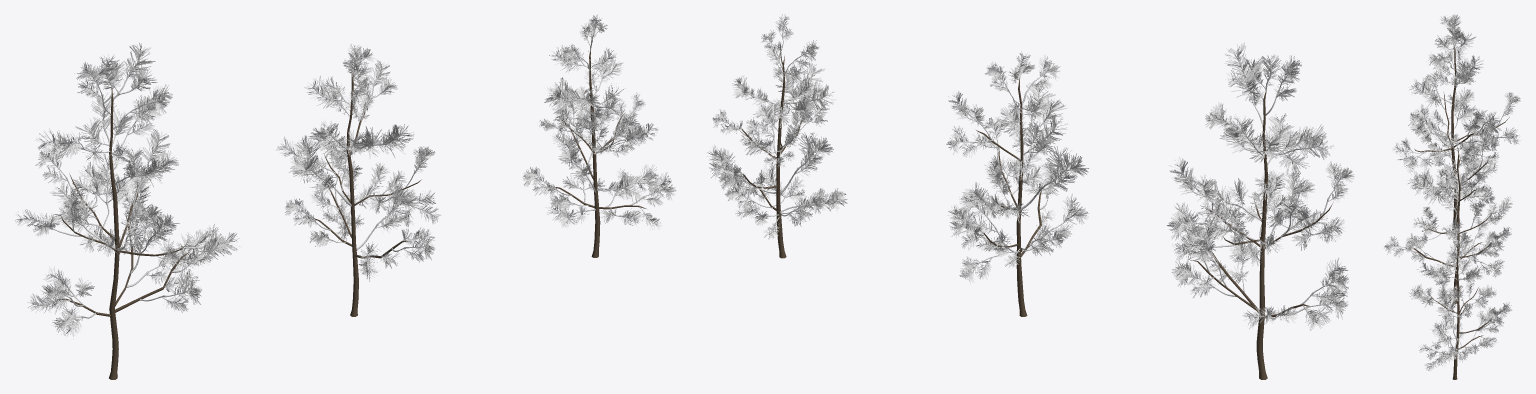
Rendered from pine_sapling_small_1k.fbx.
3 renders of one model, left to right at view 1: azimuth 30°, elevation 25°; view 2: azimuth 150°, elevation 25°; view 3: azimuth 270°, elevation 25°, orthographic. The views are drawn at different scales.
Parts seen in each view (by area): view 1: pine_sapling_small_a, pine_sapling_small_b, pine_sapling_small_c; view 2: pine_sapling_small_a, pine_sapling_small_b, pine_sapling_small_c; view 3: pine_sapling_small_a, pine_sapling_small_b, pine_sapling_small_c.
Boxes of the visible parts, box(x1,y1,x2,y2) form: pine_sapling_small_a: box(15, 43, 241, 379); pine_sapling_small_b: box(276, 44, 441, 316); pine_sapling_small_c: box(522, 14, 676, 257); pine_sapling_small_a: box(1167, 42, 1354, 379); pine_sapling_small_b: box(946, 51, 1088, 316); pine_sapling_small_c: box(707, 14, 847, 258); pine_sapling_small_a: box(1391, 14, 1520, 229); pine_sapling_small_b: box(1384, 133, 1512, 304); pine_sapling_small_c: box(1409, 222, 1512, 379).
Size of the model in its own units: 264 by 130 by 77.03.
